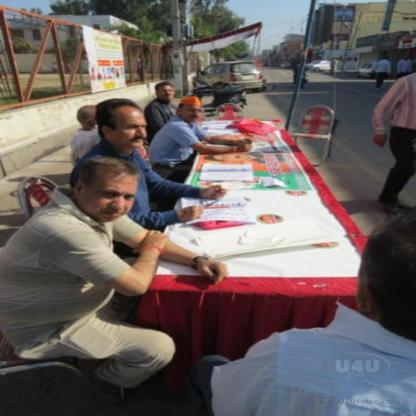face: (85, 169, 138, 223), (114, 110, 148, 149), (184, 105, 203, 122), (162, 87, 176, 101), (405, 56, 410, 60)
